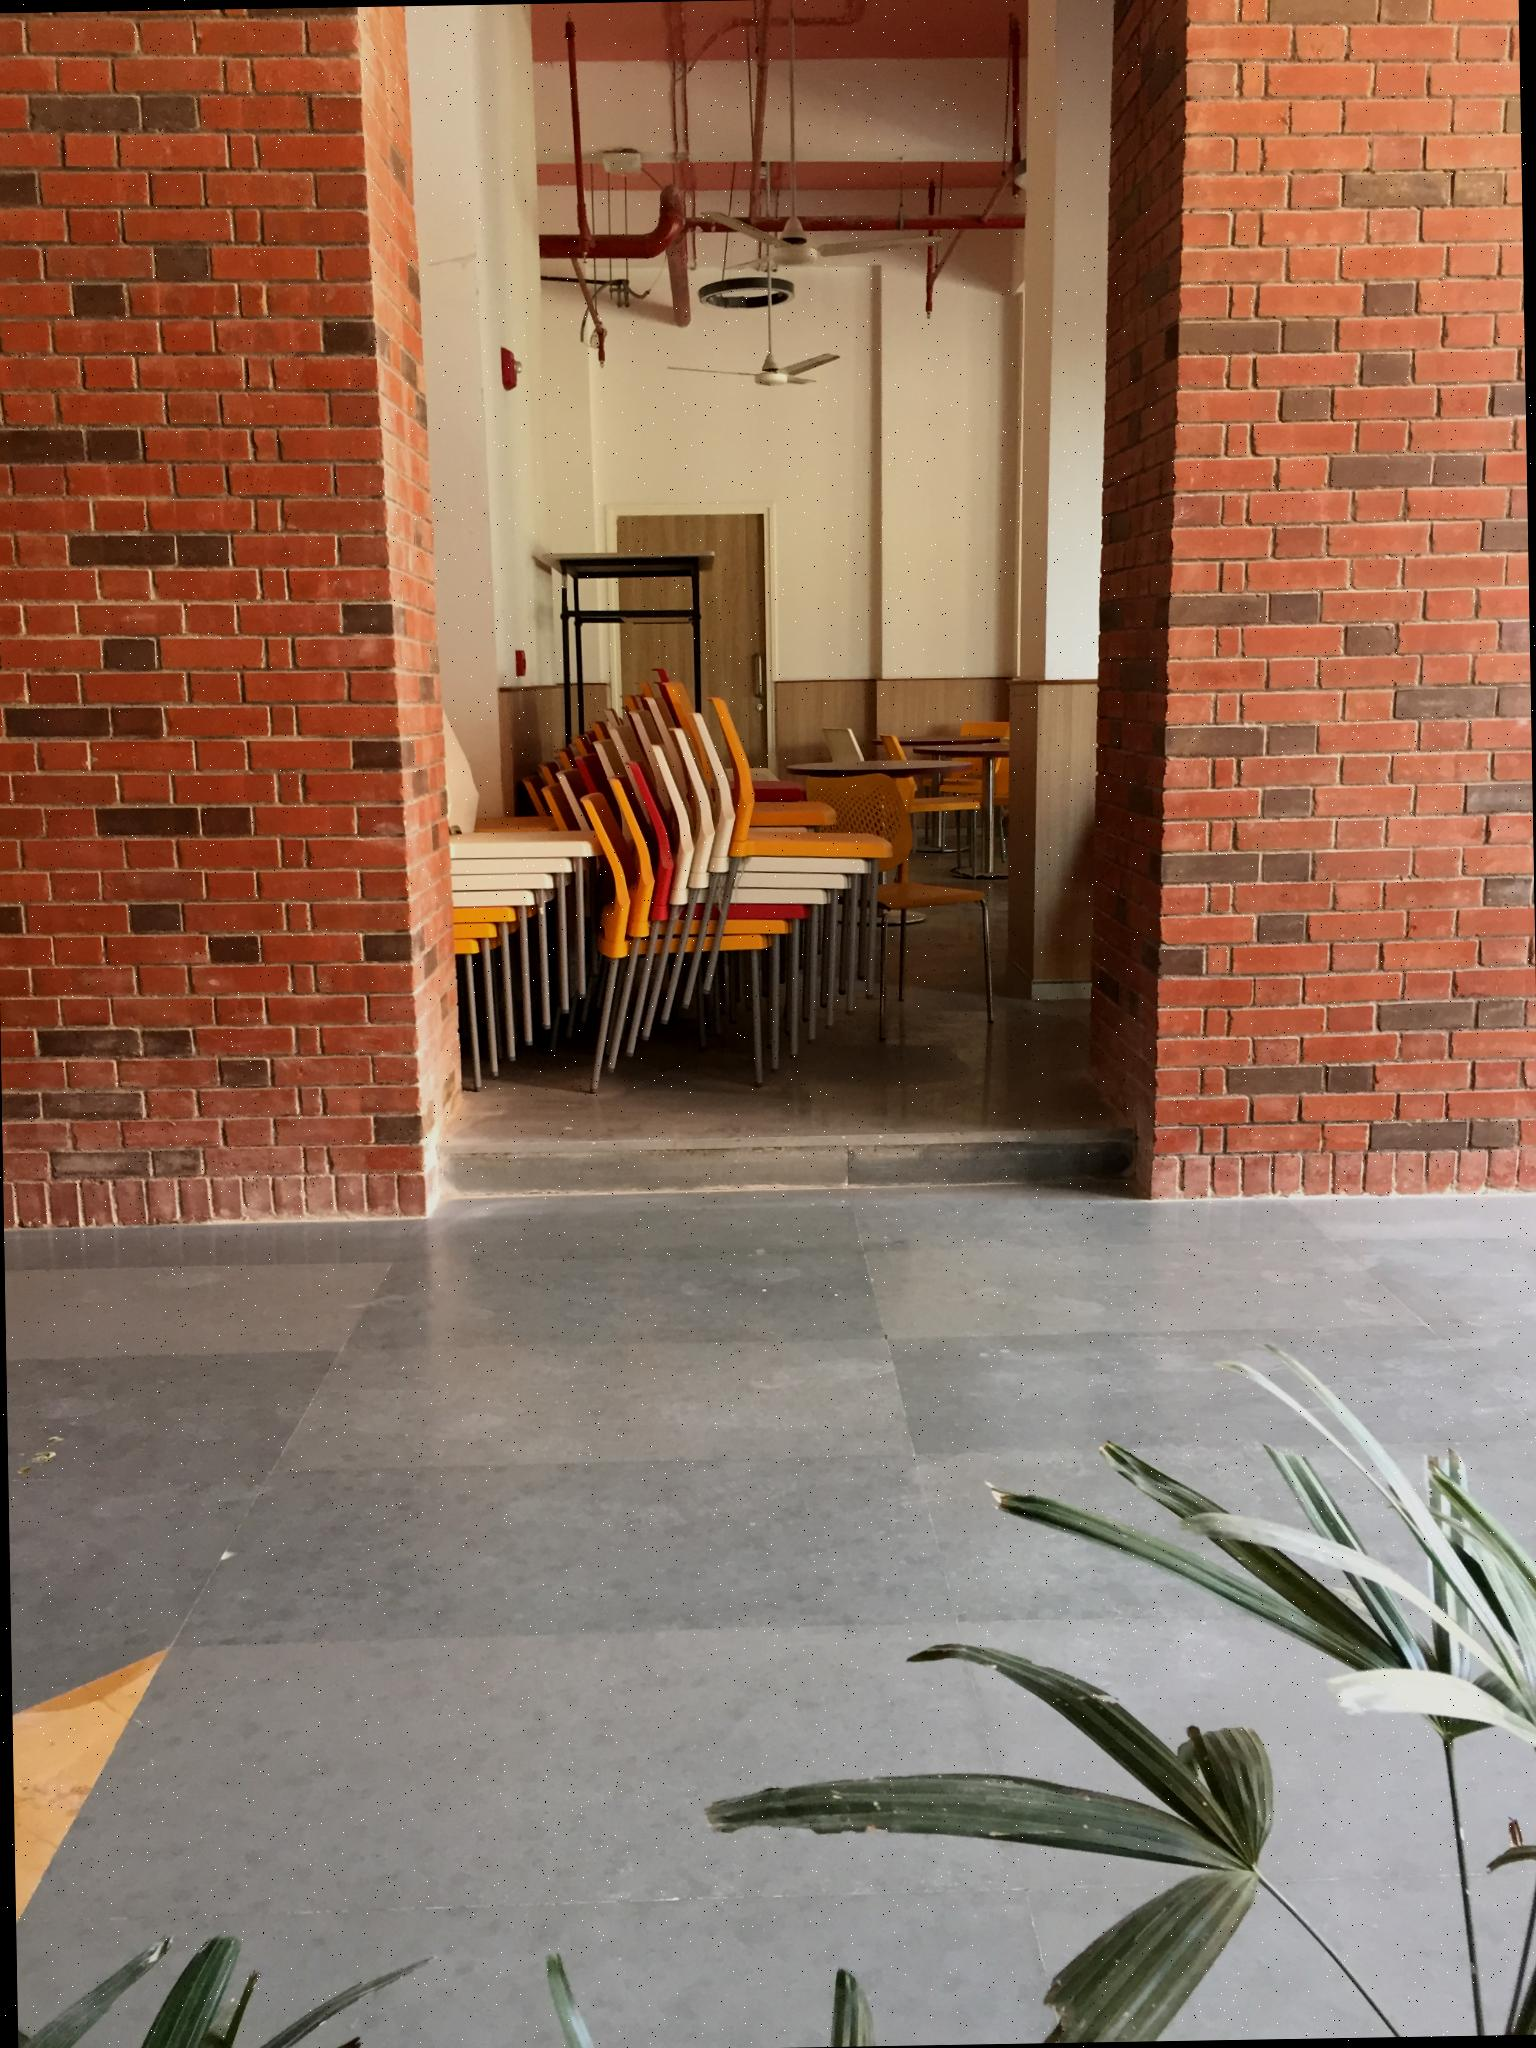chair: (426, 710, 592, 1043), (579, 798, 758, 1090), (713, 689, 874, 1005), (807, 776, 994, 1018), (440, 877, 574, 1019), (879, 731, 995, 885), (421, 910, 516, 1063), (442, 893, 541, 1039), (424, 940, 494, 1089), (820, 724, 907, 830), (965, 719, 1015, 860)
